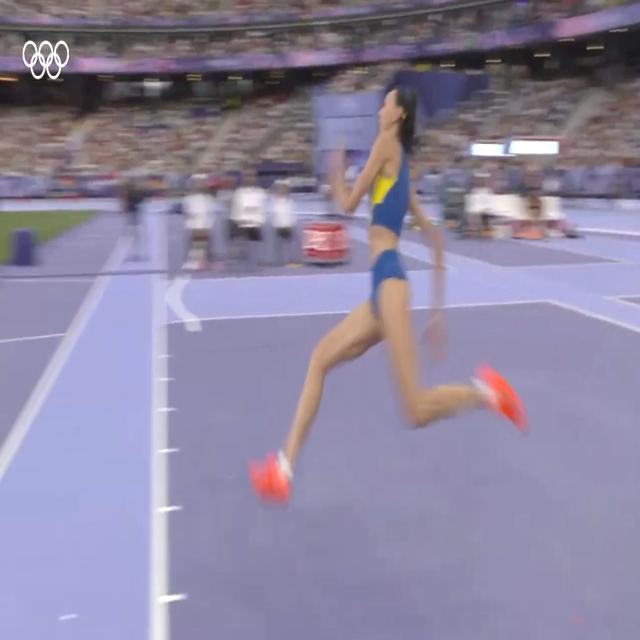run: (249, 91, 523, 507)
